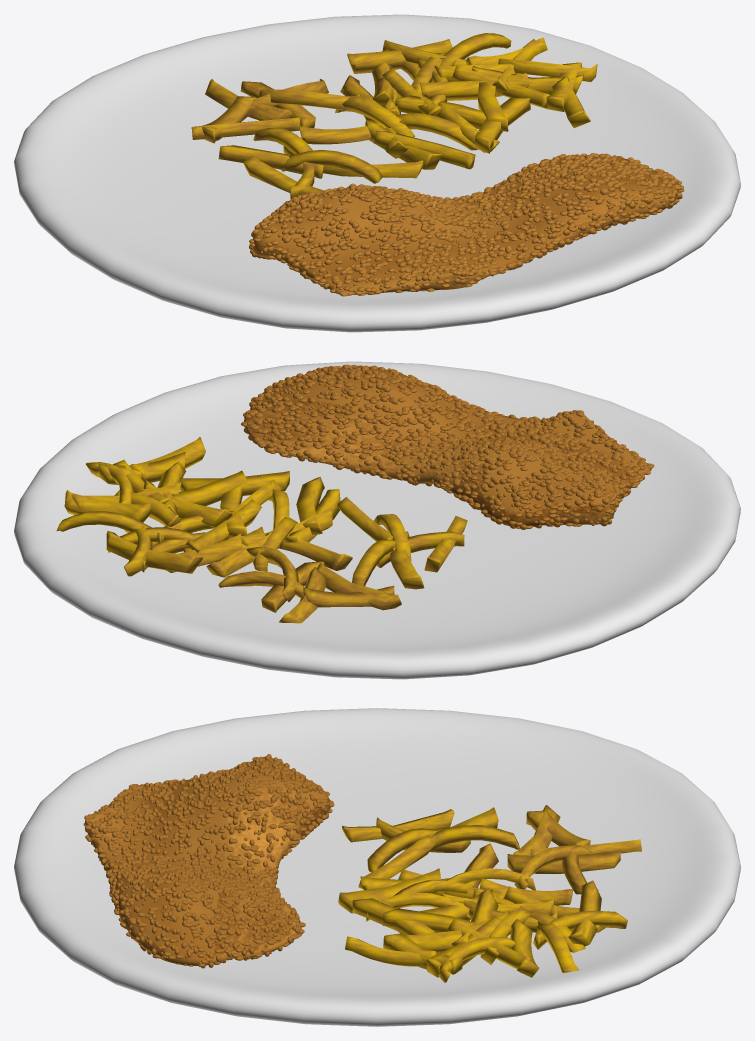
File: meal2.gltf
3 views of the same model, one above another, from view 1: azimuth 30°, elevation 25°; view 2: azimuth 150°, elevation 25°; view 3: azimuth 270°, elevation 25° (orthographic). The views are drawn at different scales.
Parts seen in each view (by area): view 1: Cube, Cube.002, Plane; view 2: Cube, Cube.002, Plane; view 3: Cube, Cube.002, Plane.
Part boxes in pixels (x1,y1,x2,y2): Cube: (14,14,740,332); Cube.002: (249,153,684,296); Plane: (191,33,597,199); Cube: (14,361,740,679); Cube.002: (241,364,654,529); Plane: (56,437,467,623); Cube: (14,708,740,1026); Cube.002: (83,754,334,968); Plane: (338,805,641,982).
Size of the model in its own units: 1.81 by 0.214 by 1.81.
Materials: 3 (2 with a texture image).
